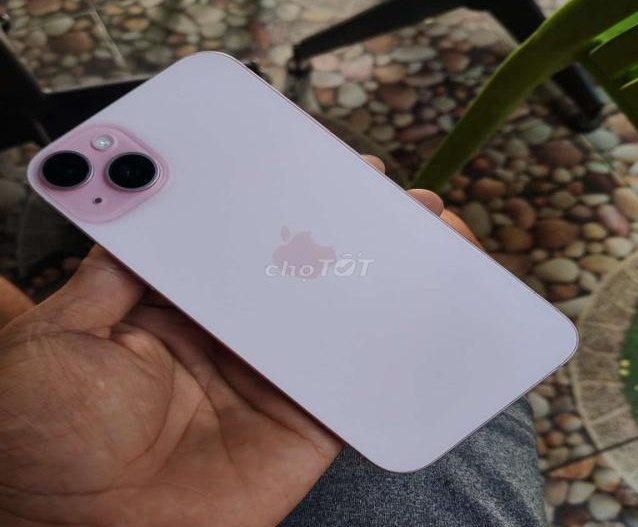scratch: (510, 285, 520, 290)
